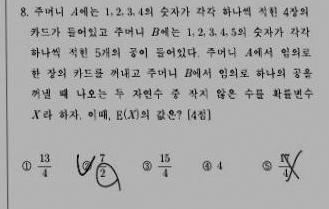choice: (75, 156, 93, 176)
not-choice: (20, 160, 32, 172), (141, 160, 153, 172), (201, 160, 212, 172), (261, 160, 272, 171)
